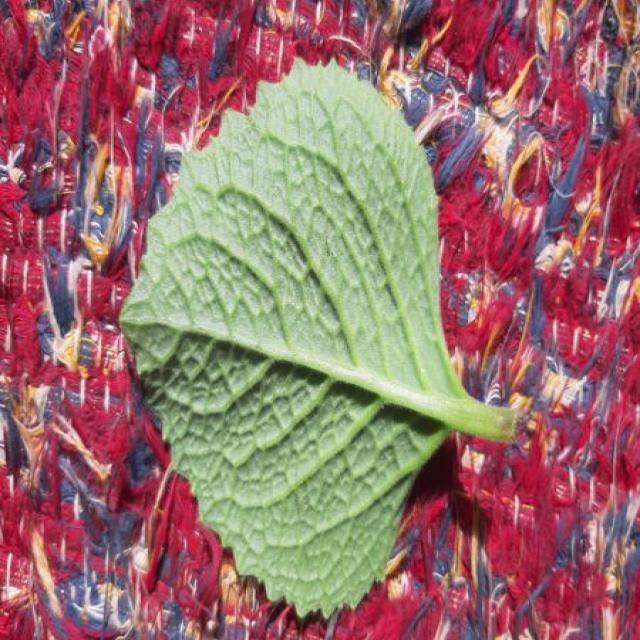doddpathre: (122, 62, 517, 615)
